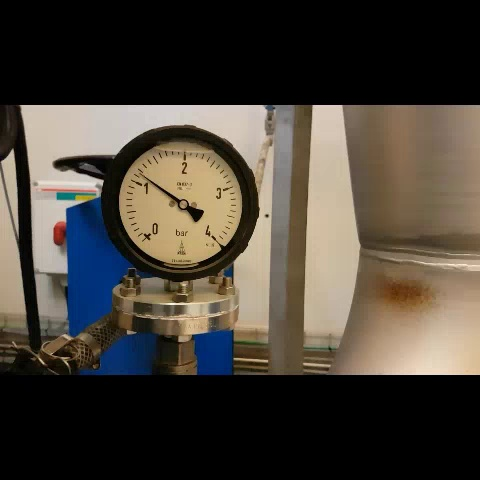Round_Meter: (115, 137, 248, 269)
